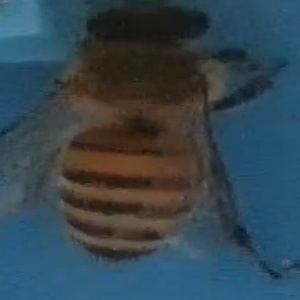bee: (7, 1, 288, 275)
